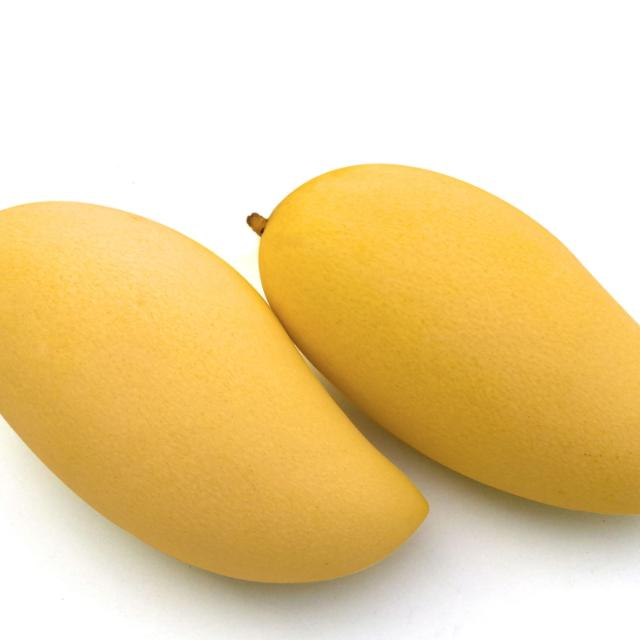mango: (0, 201, 432, 584), (255, 158, 640, 518)
